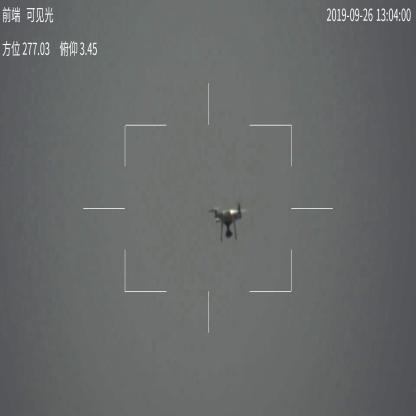uav: (205, 201, 244, 243)
